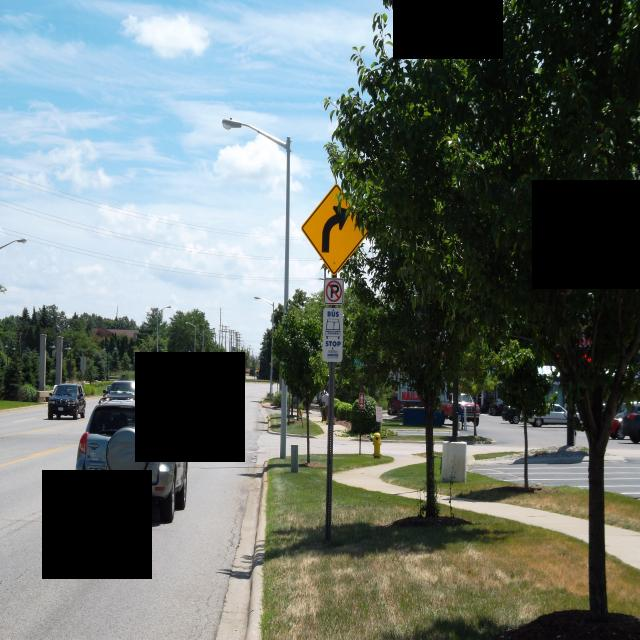regulatory: (324, 278, 344, 305)
warning: (299, 188, 372, 274)
